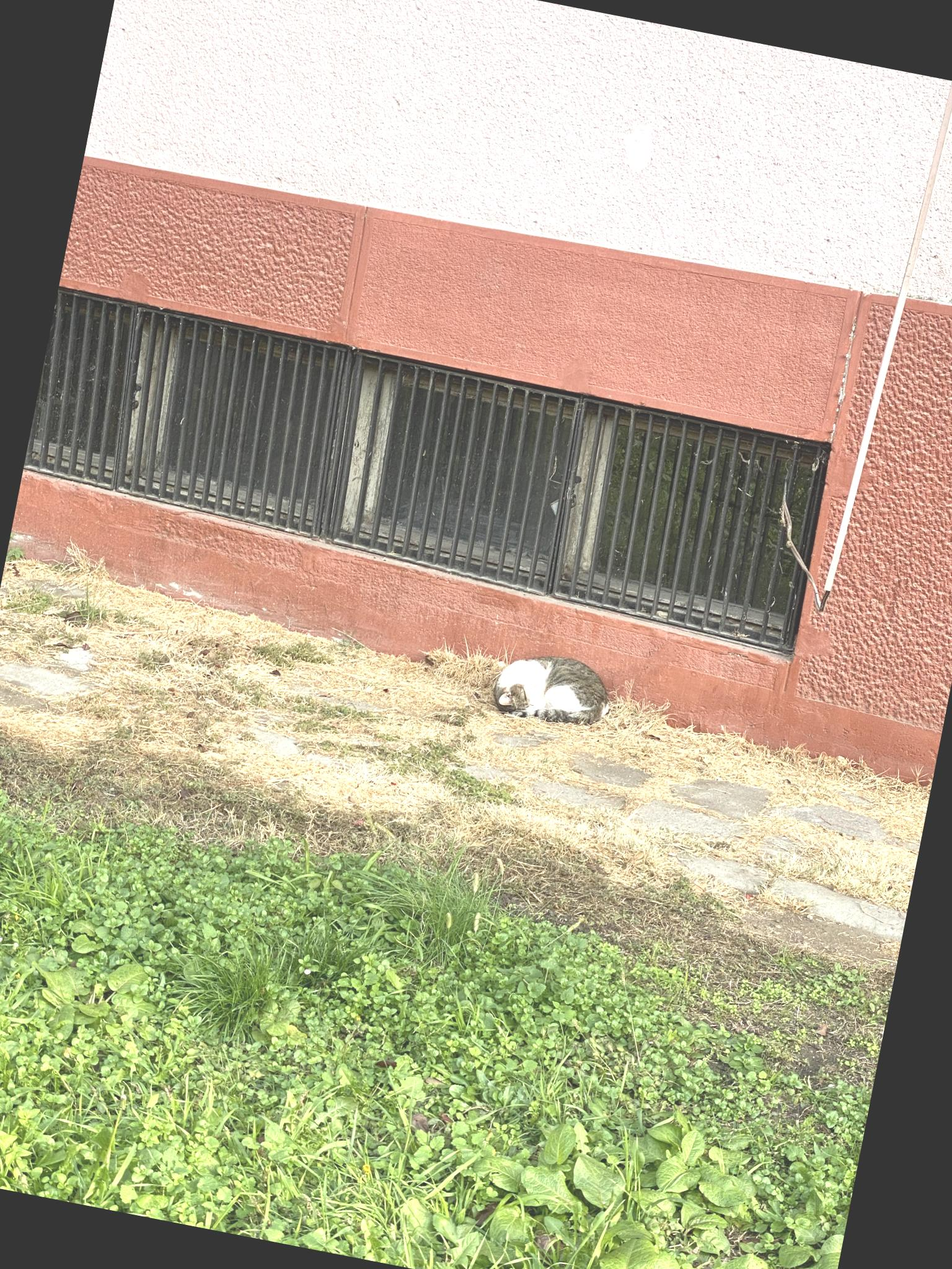macka: (490, 644, 620, 735)
